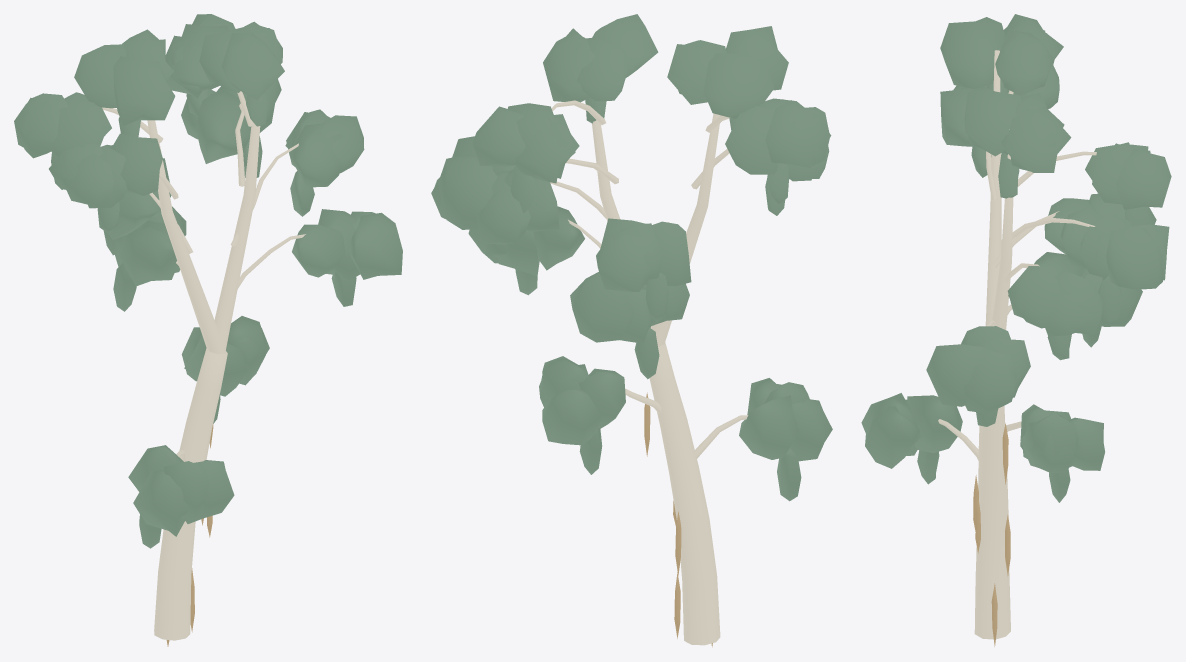
Rendered from Blender_Eucalyptus_2.glb.
The picture shows the model from 3 angles, left to right: view 1: azimuth 30°, elevation 25°; view 2: azimuth 150°, elevation 25°; view 3: azimuth 270°, elevation 25°; orthographic projection. The views are drawn at different scales.
Visible parts, largest first — view 1: Blender_Eucalyptus_2; view 2: Blender_Eucalyptus_2; view 3: Blender_Eucalyptus_2.
Part boxes in pixels (<box>): Blender_Eucalyptus_2: <box>14,14,402,646</box>; Blender_Eucalyptus_2: <box>431,14,832,647</box>; Blender_Eucalyptus_2: <box>861,14,1171,646</box>.
Bounding box in the file's own units: 17.66 × 28.14 × 13.16.
